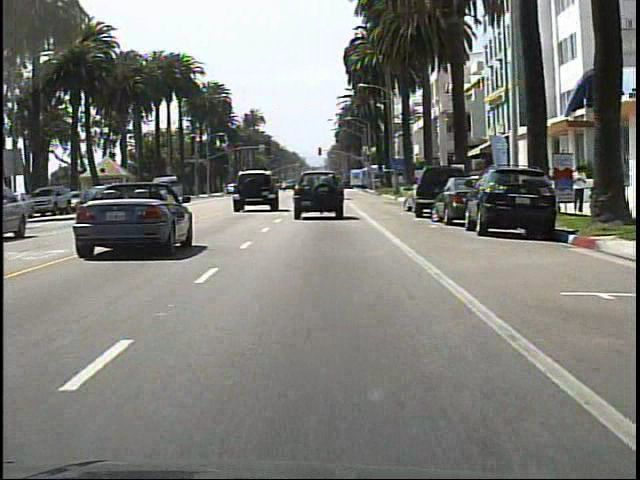person: (569, 165, 588, 216)
